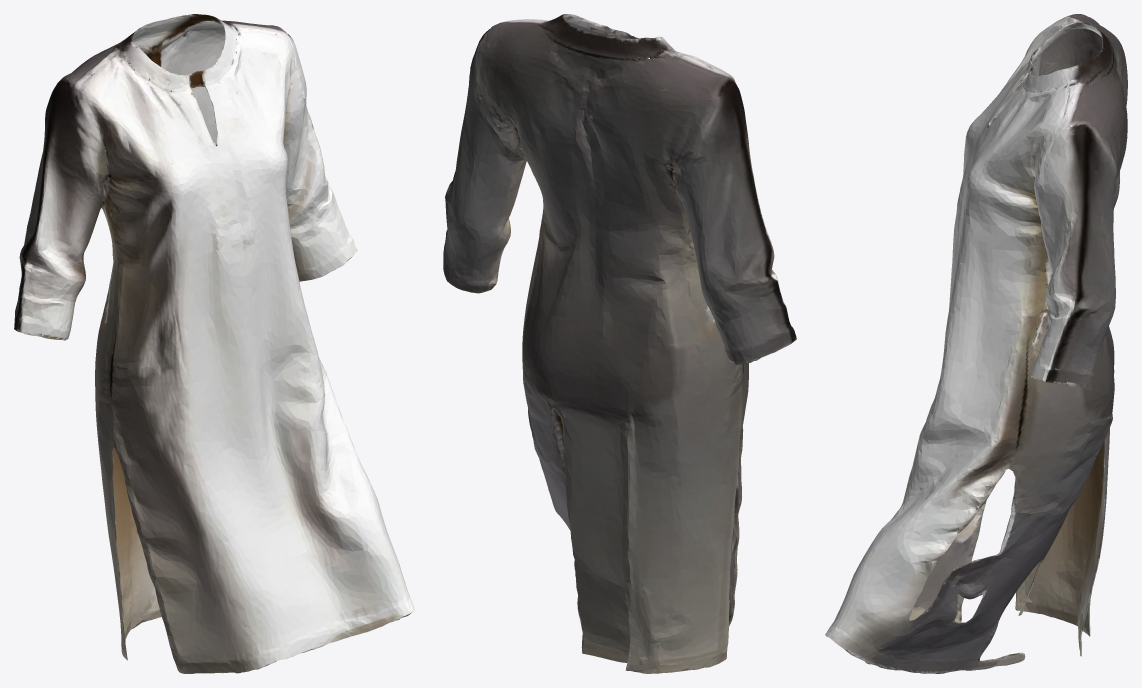
File: kurti_long_neck.glb
3 renders of one model, left to right at view 1: azimuth 30°, elevation 25°; view 2: azimuth 150°, elevation 25°; view 3: azimuth 270°, elevation 25°, orthographic. The views are drawn at different scales.
Visible parts, largest first — view 1: world; view 2: world; view 3: world.
Part boxes in pixels (x1,y1,x2,y2): world: [14, 14, 414, 673]; world: [443, 14, 796, 673]; world: [825, 14, 1127, 673].
Size of the model in its own units: 1.17 by 1.99 by 0.8966.
1 material, 1 textured.
